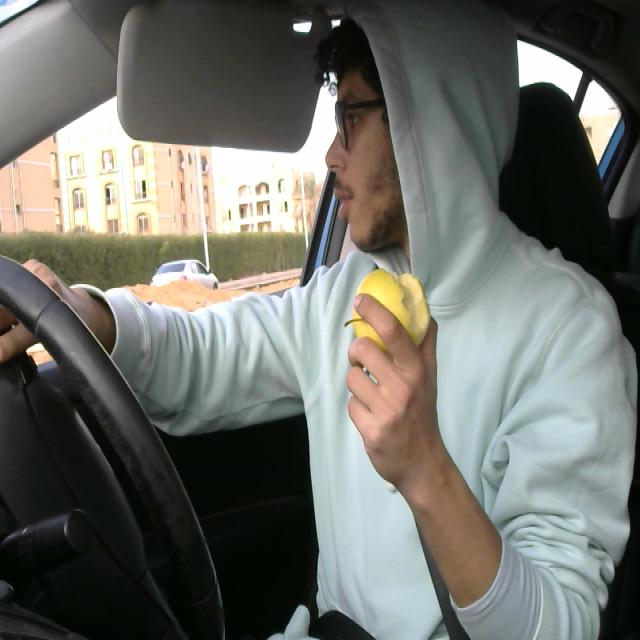eating: (360, 270, 428, 360)
